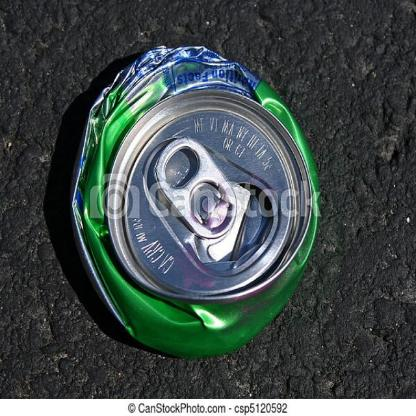Can: (58, 31, 328, 382)
